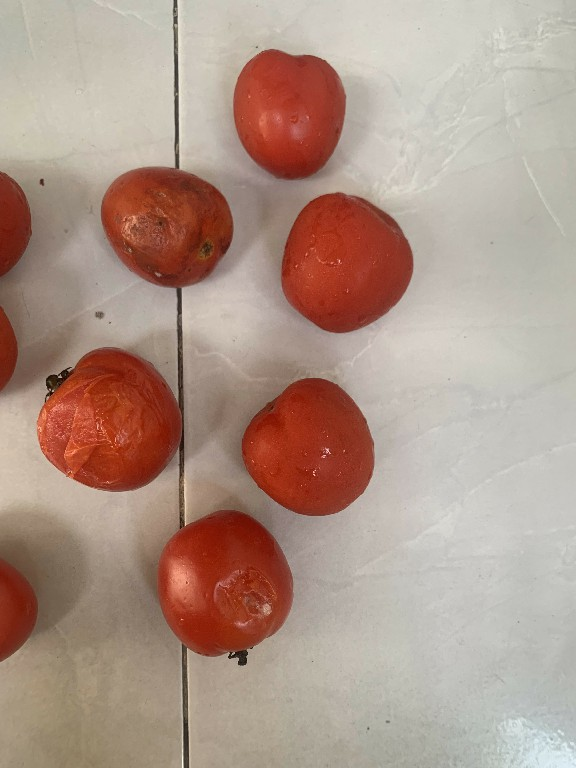NG: (152, 508, 305, 675), (26, 341, 179, 496), (92, 159, 231, 288)
OK: (233, 367, 410, 520), (270, 185, 424, 341), (222, 37, 352, 181)
